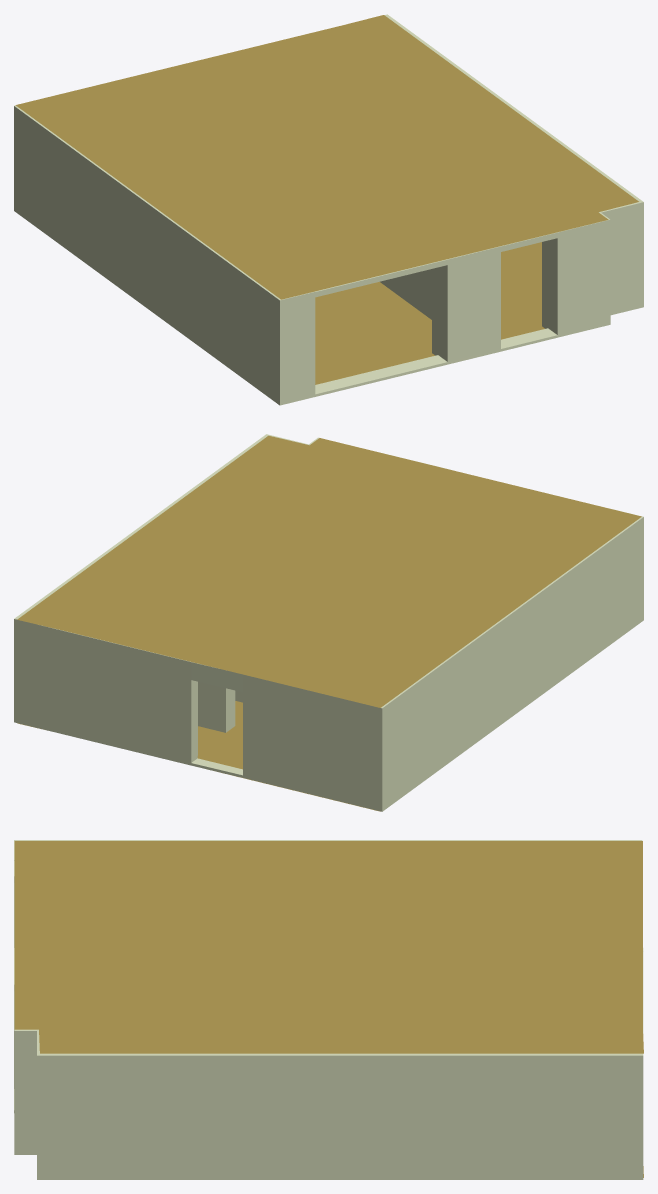
Rendered from квартира1.fbx.
The picture shows the model from 3 angles, top to bottom: view 1: azimuth 30°, elevation 25°; view 2: azimuth 150°, elevation 25°; view 3: azimuth 270°, elevation 25°; orthographic projection. The views are drawn at different scales.
Visible parts, largest first — view 1: Roof, Cube.033, Floor; view 2: Roof, Cube.033, Floor; view 3: Roof, Cube.033.
Boxes of the visible parts, left/top/right/bottom form: Roof: left=15, top=15, right=638, bottom=299; Cube.033: left=14, top=14, right=643, bottom=405; Floor: left=315, top=242, right=544, bottom=384; Roof: left=17, top=435, right=641, bottom=707; Cube.033: left=14, top=434, right=643, bottom=811; Floor: left=17, top=701, right=380, bottom=811; Roof: left=14, top=841, right=643, bottom=1053; Cube.033: left=14, top=840, right=643, bottom=1179.
Bounding box in the file's own units: 1515 × 408 × 1870.
